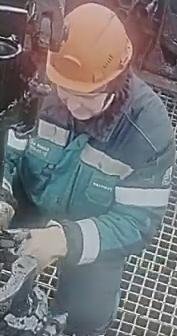gloves: (12, 220, 74, 276)
helmet: (44, 1, 133, 100)
vest: (0, 106, 176, 216)
